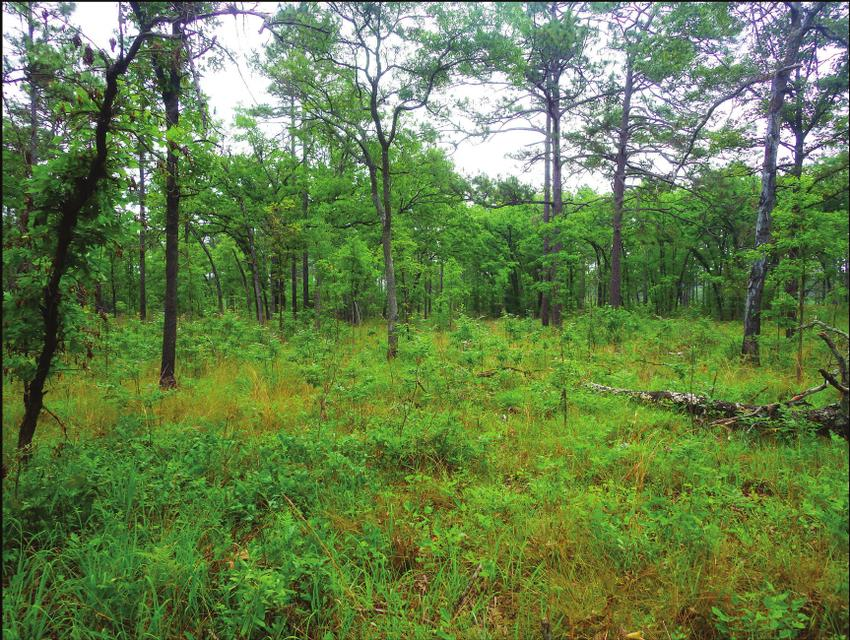overgrown grass: (5, 322, 846, 637), (718, 370, 773, 395), (457, 316, 504, 330)
